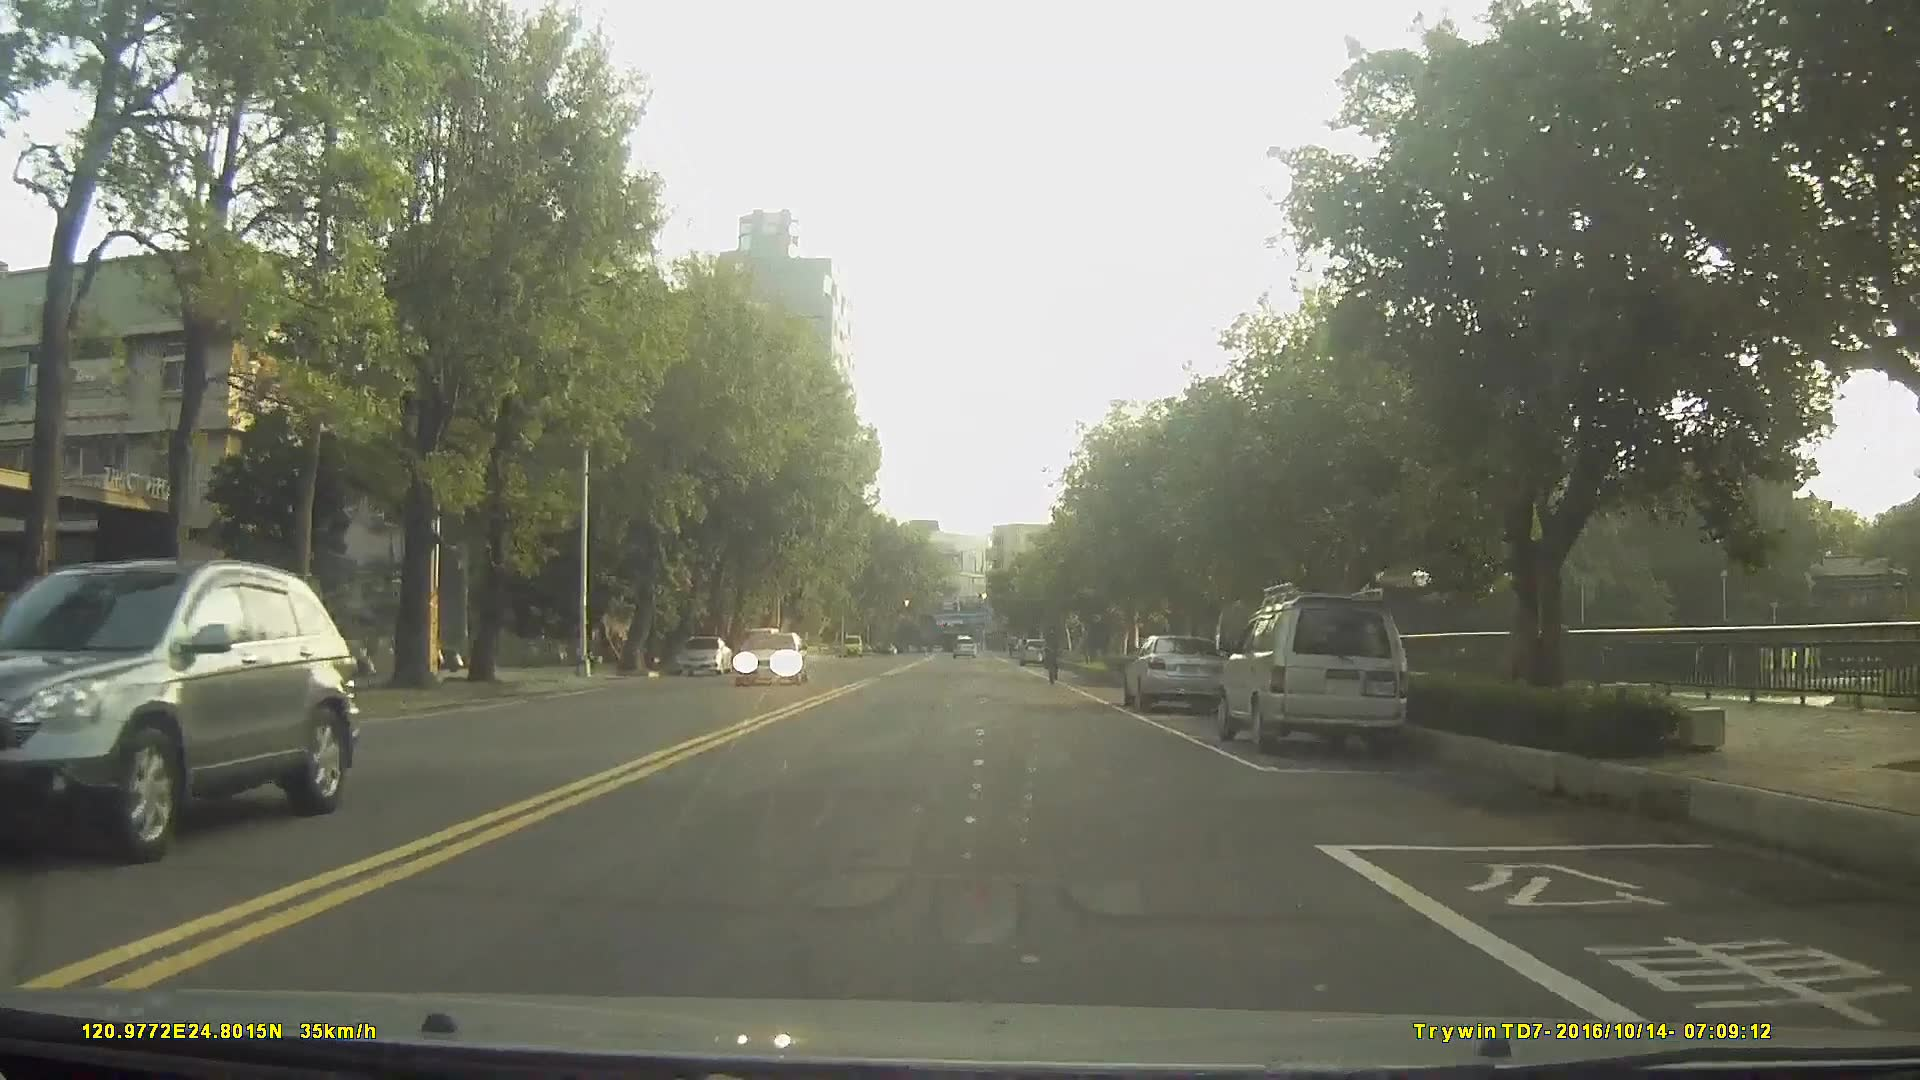rider: (1043, 626, 1063, 691)
vehicle: (0, 555, 361, 869), (1213, 595, 1408, 757), (1120, 632, 1232, 716), (731, 628, 810, 687), (673, 634, 731, 677), (736, 631, 780, 674), (1019, 637, 1050, 669), (948, 634, 976, 660)
